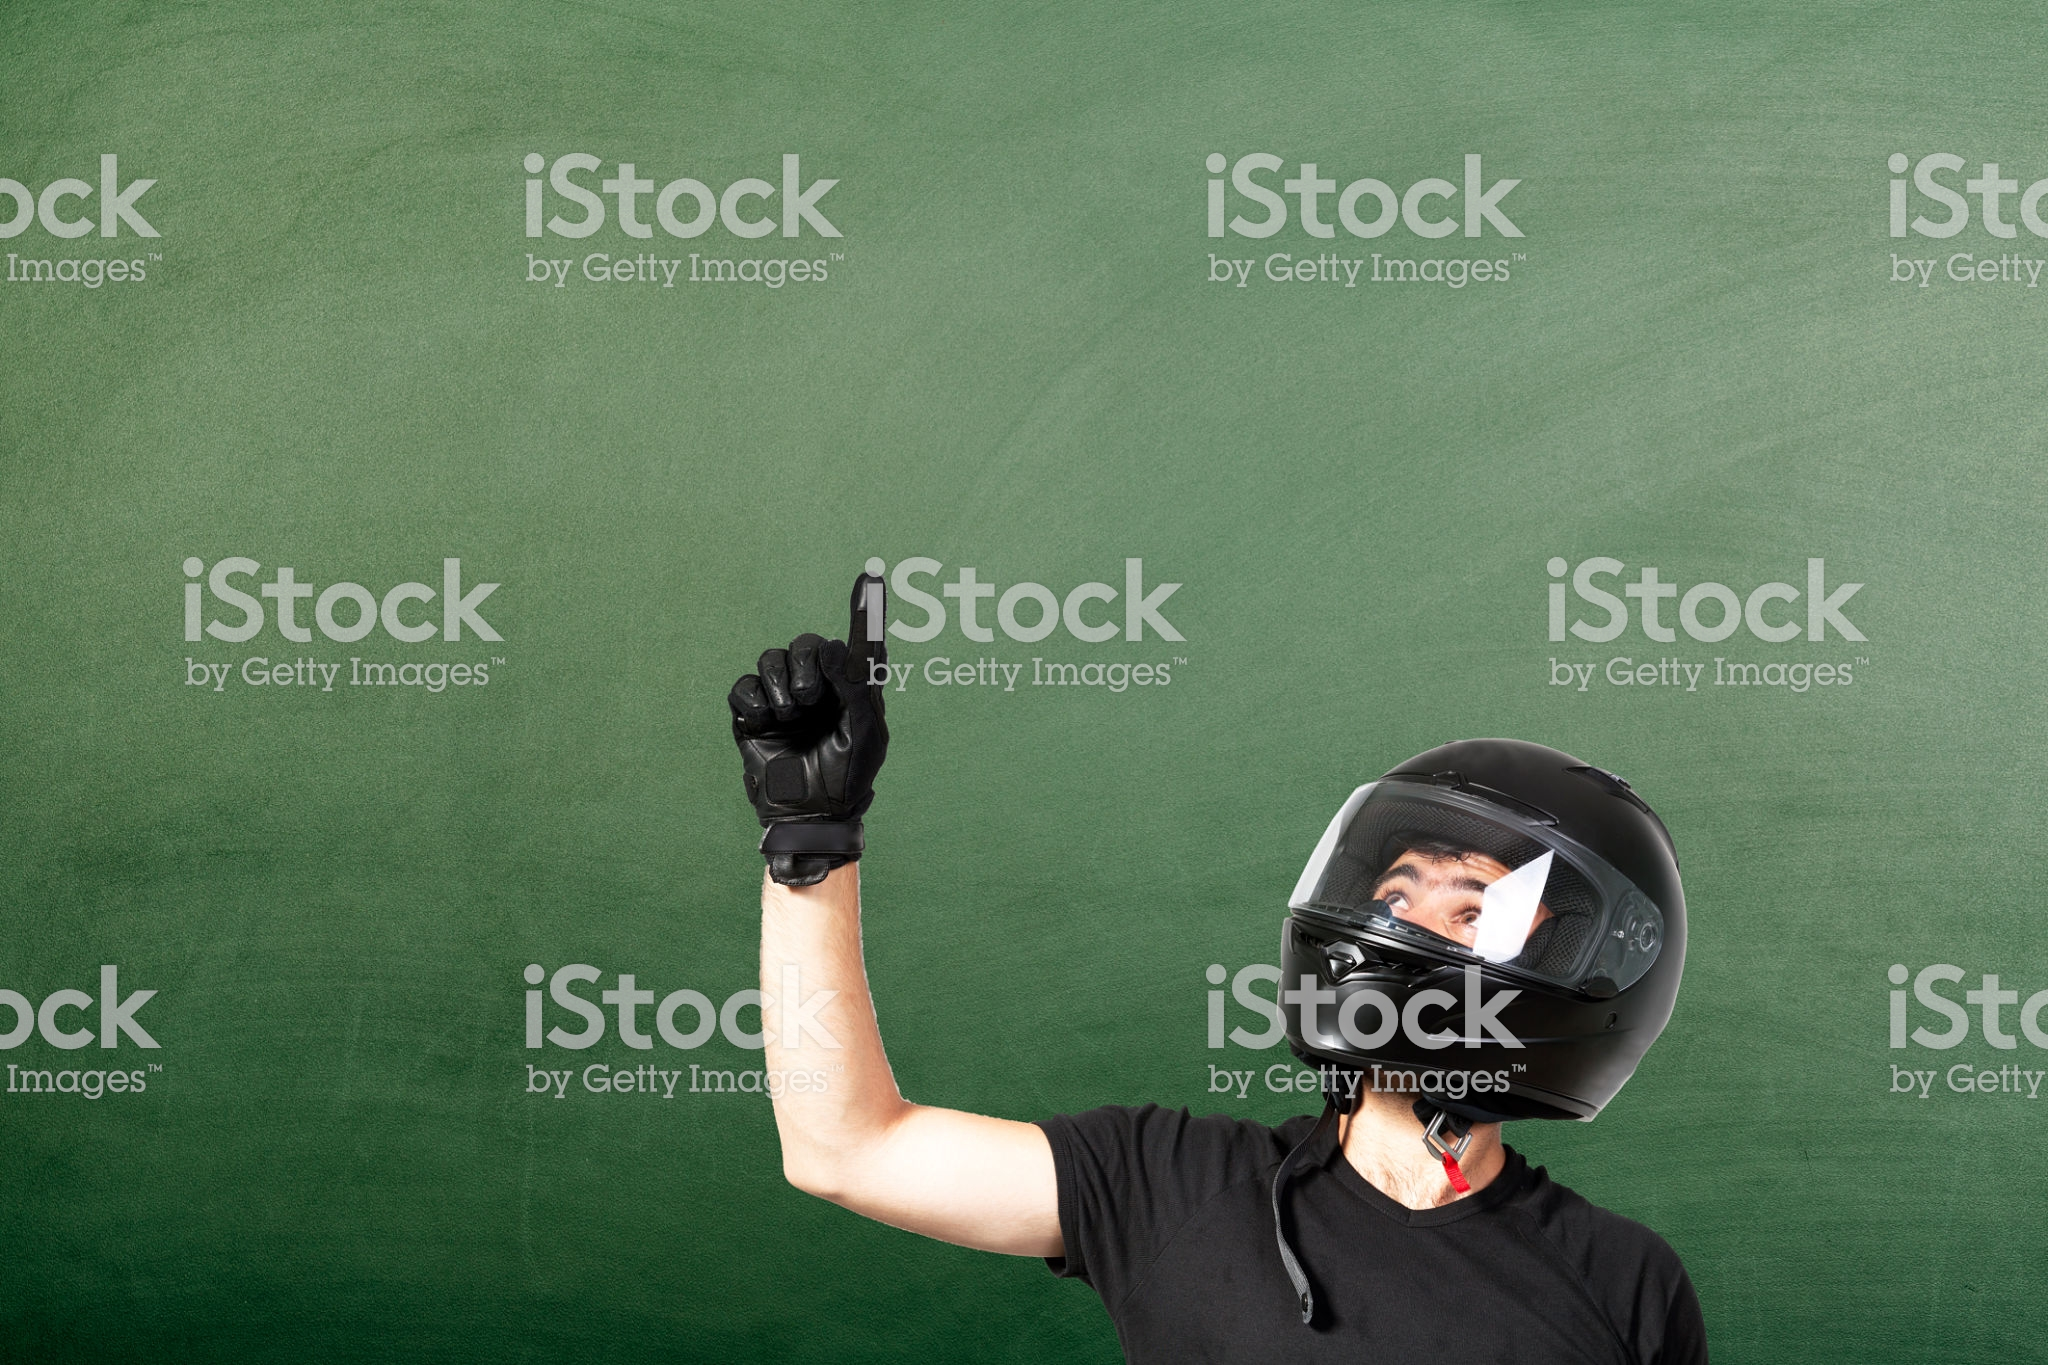helmet: (1278, 733, 1689, 1127)
